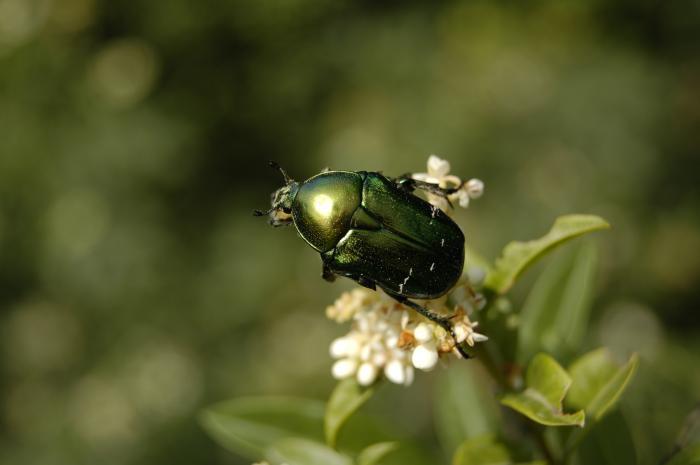Cetonia_aurata: (249, 144, 479, 338)
